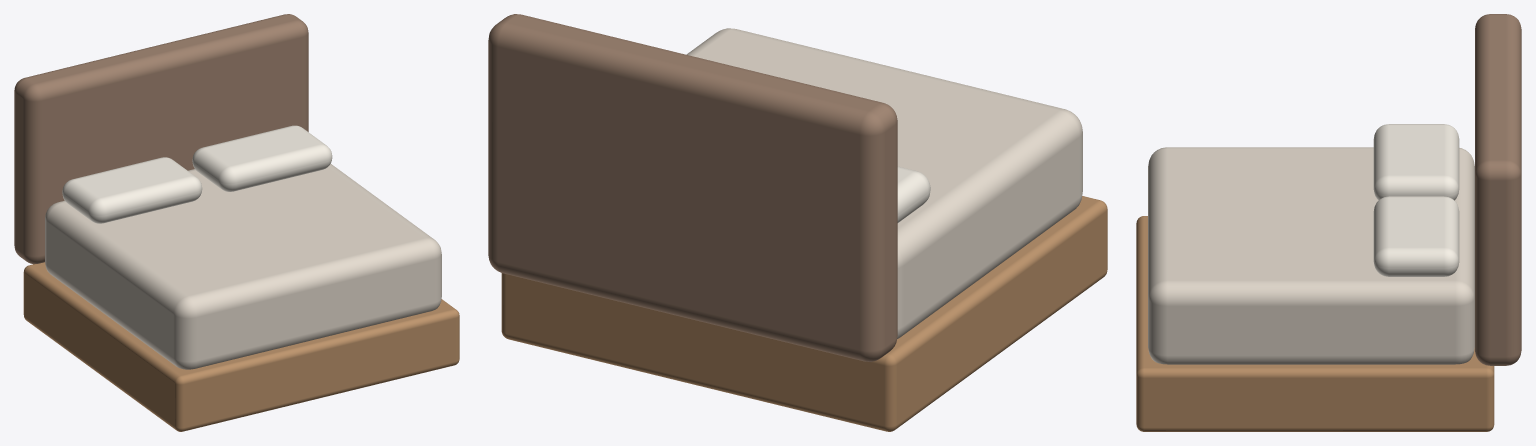
The model's file is bed.glb.
The picture shows the model from 3 angles, left to right: view 1: azimuth 30°, elevation 25°; view 2: azimuth 150°, elevation 25°; view 3: azimuth 270°, elevation 25°; orthographic projection. The views are drawn at different scales.
Size of the model in its own units: 0.96 by 0.76 by 0.99.
